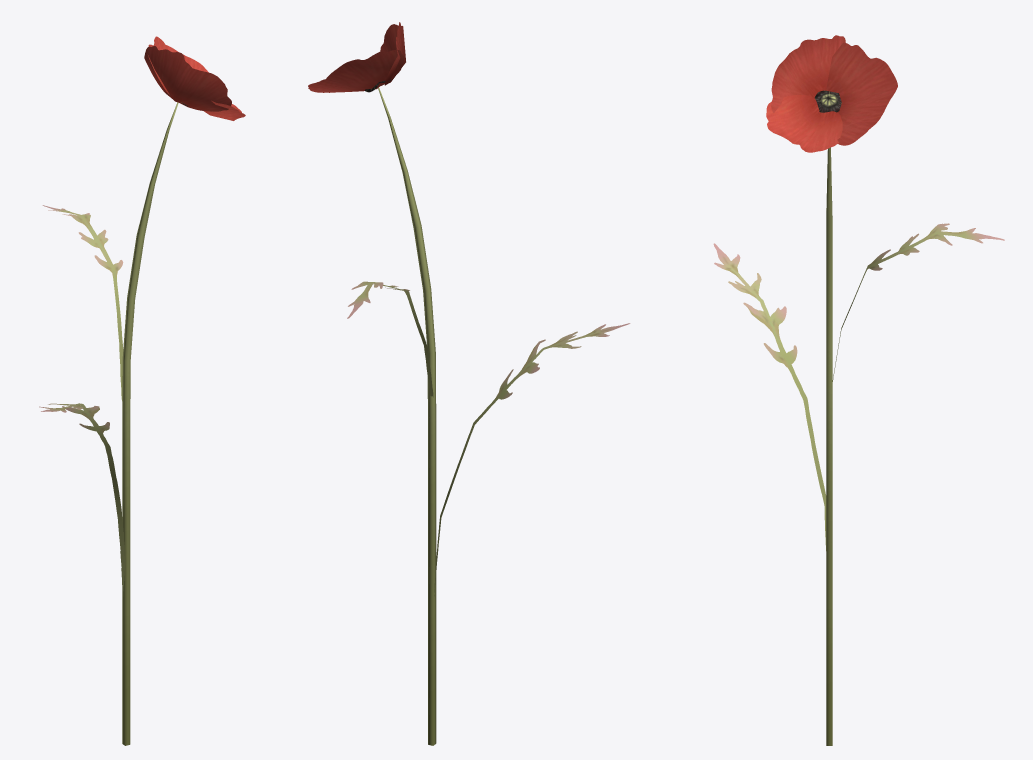
Rendered from flowers2.glb.
3 views of the same model, side by side, from view 1: azimuth 30°, elevation 25°; view 2: azimuth 150°, elevation 25°; view 3: azimuth 270°, elevation 25° (orthographic). The views are drawn at different scales.
Visible parts, largest first — view 1: Object_8; view 2: Object_8; view 3: Object_8.
Part boxes in pixels (left/top/right/bottom): Object_8: left=39, top=36, right=245, bottom=745; Object_8: left=308, top=22, right=630, bottom=745; Object_8: left=713, top=35, right=1004, bottom=745.
Size of the model in its own units: 10.51 by 25.33 by 10.7.
1 material, 1 textured.
